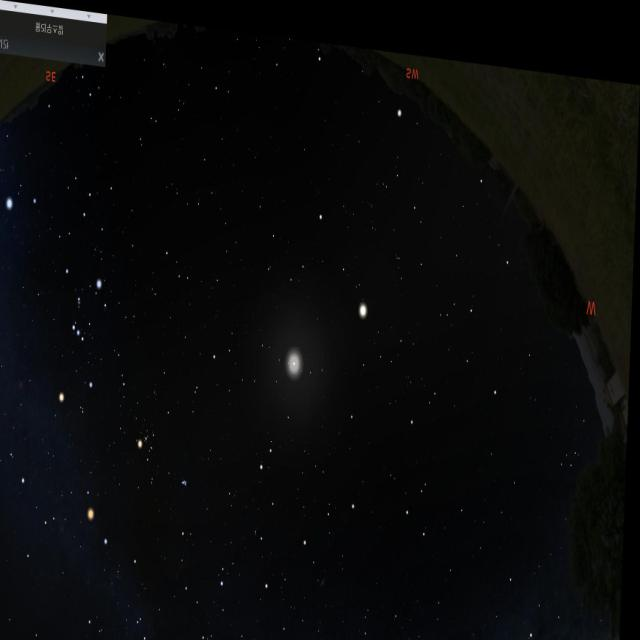canis_major: (0, 121, 25, 224)
moon: (279, 332, 317, 387)
orion: (47, 254, 110, 412)
pleiades: (178, 460, 198, 485)
taurus: (136, 399, 196, 498)
